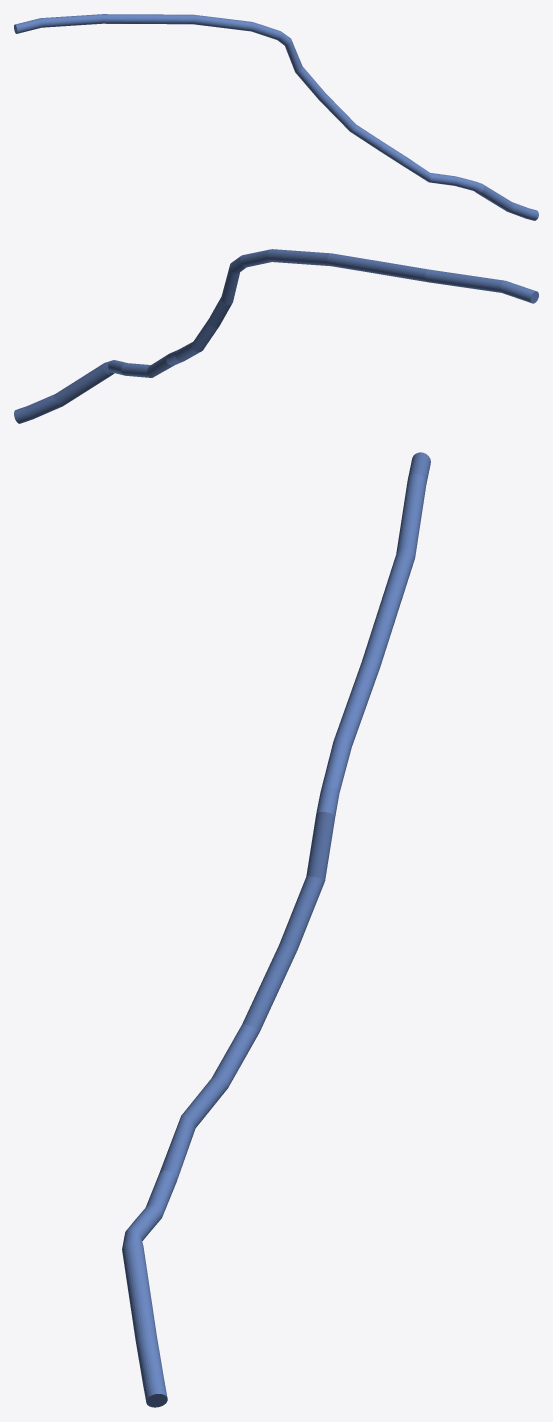
Rendered from S_R_Sphenoparietal_sinus.fbx.
3 renders of one model, top to bottom at view 1: azimuth 30°, elevation 25°; view 2: azimuth 150°, elevation 25°; view 3: azimuth 270°, elevation 25°, orthographic. The views are drawn at different scales.
Parts seen in each view (by area): view 1: S_R_Sphenoparietal_sinus; view 2: S_R_Sphenoparietal_sinus; view 3: S_R_Sphenoparietal_sinus.
Boxes of the visible parts, x1,y1,x2,y2 form: S_R_Sphenoparietal_sinus: [14, 14, 538, 220]; S_R_Sphenoparietal_sinus: [14, 249, 538, 423]; S_R_Sphenoparietal_sinus: [122, 452, 430, 1407].
Size of the model in its own units: 13349 by 7224 by 3913.
